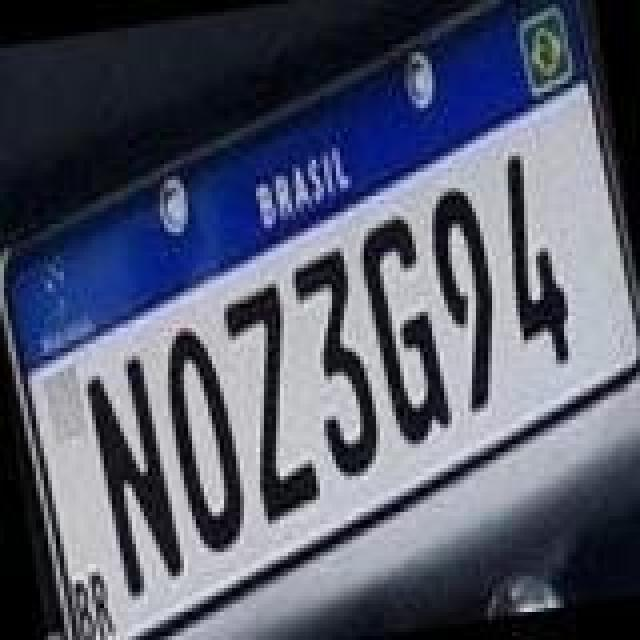3: (286, 238, 386, 482)
4: (490, 146, 582, 374)
9: (422, 180, 514, 420)
G: (356, 206, 460, 450)
N: (80, 352, 192, 608)
O: (150, 320, 250, 560)
Z: (218, 274, 326, 526)
